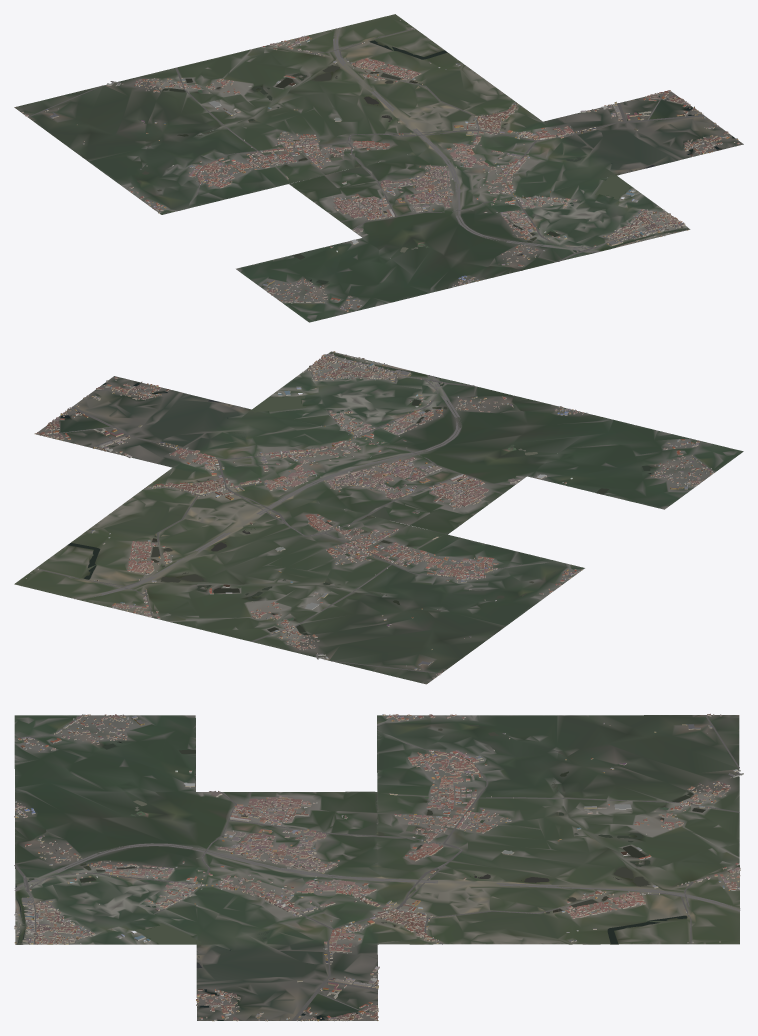
The picture shows the model from 3 angles, top to bottom: view 1: azimuth 30°, elevation 25°; view 2: azimuth 150°, elevation 25°; view 3: azimuth 270°, elevation 25°; orthographic projection. The views are drawn at different scales.
Parts seen in each view (by area): view 1: ground, buildings, roads, water; view 2: ground, buildings, roads, water; view 3: ground, buildings, roads, water.
Boxes of the visible parts, x1,y1,x2,y2 form: ground: [14, 14, 743, 322]; buildings: [21, 20, 739, 311]; roads: [27, 28, 723, 310]; water: [137, 40, 734, 283]; ground: [14, 351, 743, 684]; buildings: [25, 351, 714, 678]; roads: [35, 357, 714, 673]; water: [60, 352, 650, 635]; ground: [14, 715, 739, 1020]; buildings: [14, 713, 743, 1021]; roads: [14, 715, 740, 1020]; water: [15, 725, 705, 1020].
Size of the model in its own units: 5619 by 34.48 by 5649.
